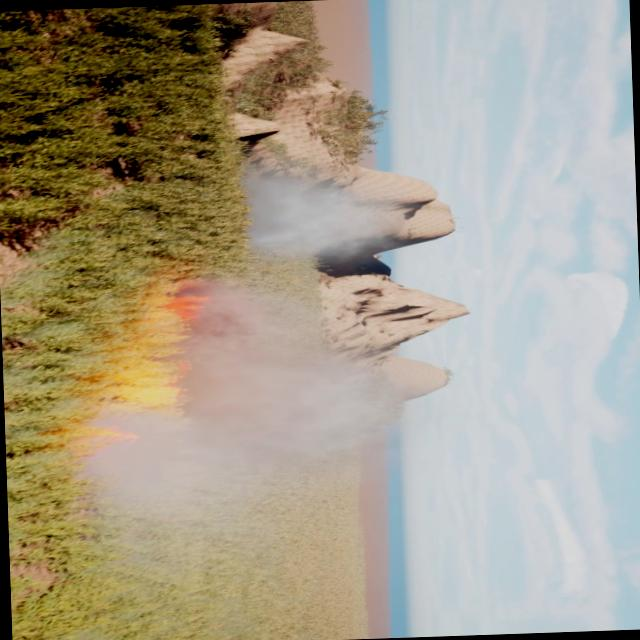fire: (126, 357, 194, 412), (73, 412, 147, 462), (162, 279, 218, 335)
smoke: (67, 266, 427, 570), (235, 157, 392, 267)
